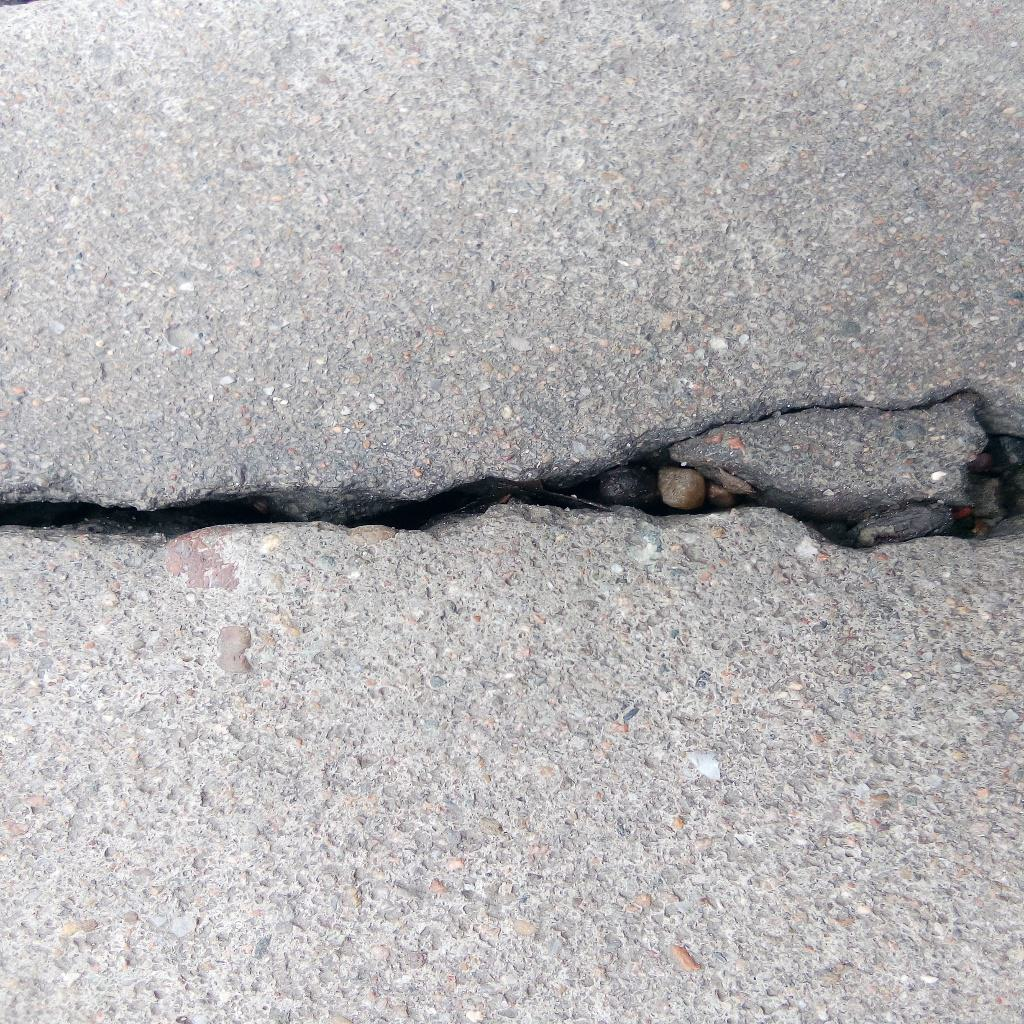Crack: (1, 387, 1024, 554)
